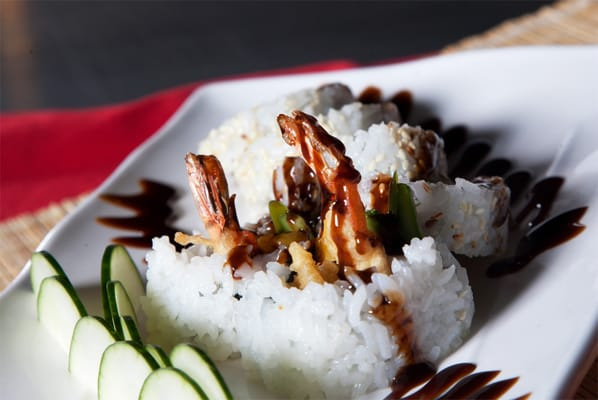curry: (0, 3, 598, 394)
